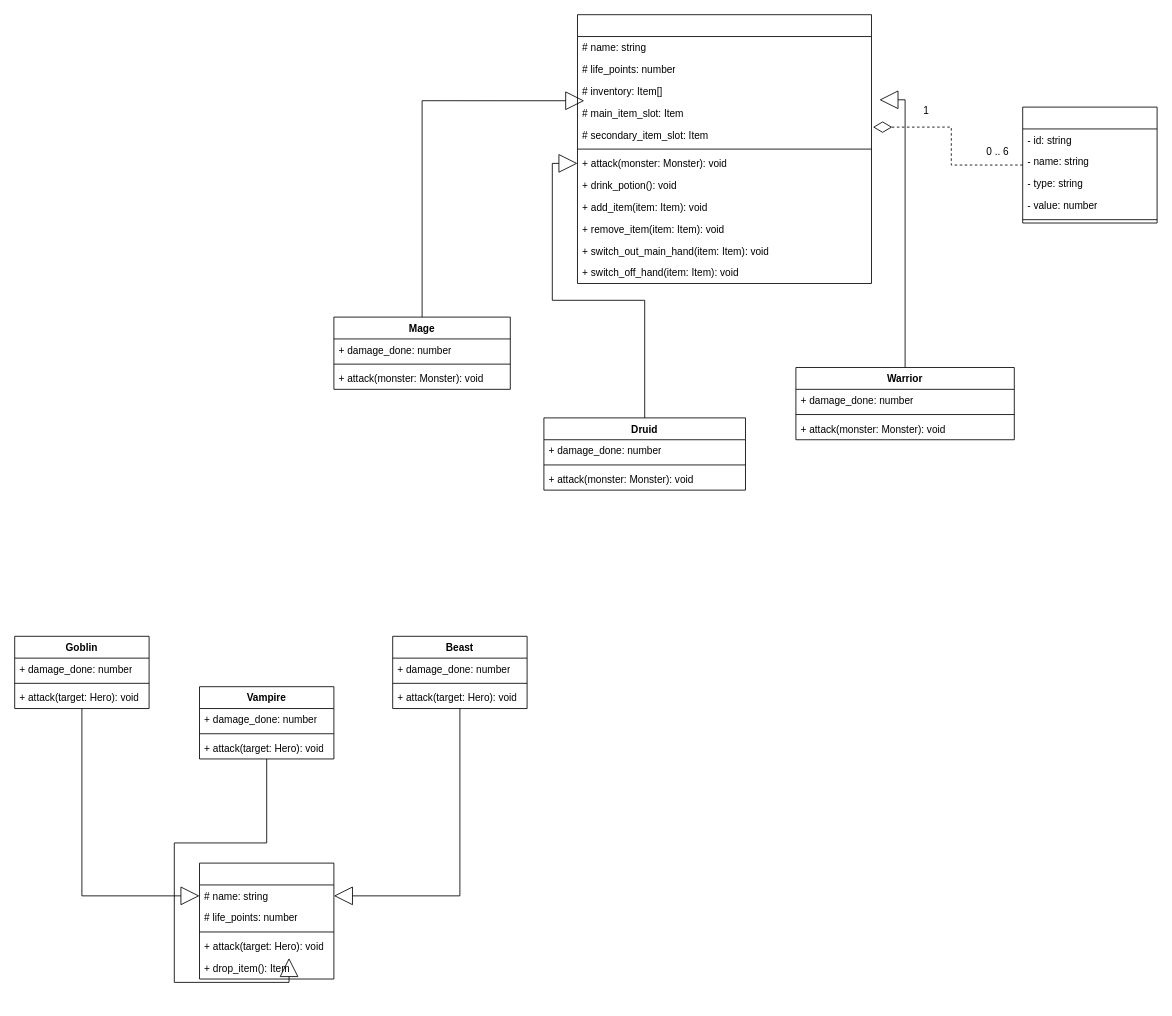
The diagram is 1172 pixels wide and 1016 high, and some of its shapes have lost their labels. The box of each missing label's shape, as (x1, y1, x2, y2) in pixels:
Hero: (577, 14, 872, 284)
Item: (1022, 106, 1157, 223)
Monster: (199, 862, 334, 979)
